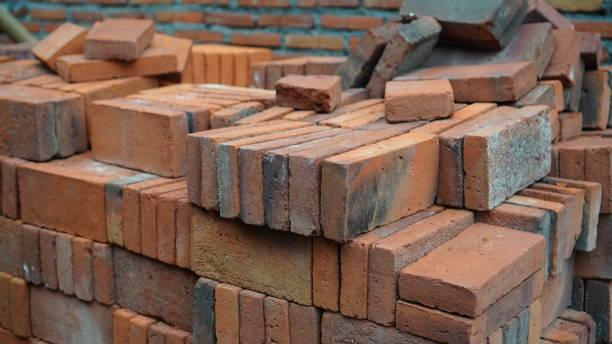Bricks: (333, 200, 445, 321), (400, 223, 544, 316), (321, 132, 436, 241), (191, 206, 315, 305), (288, 129, 406, 233), (369, 207, 470, 324), (265, 129, 381, 229), (16, 151, 140, 242), (394, 269, 546, 343), (238, 127, 355, 222), (218, 124, 335, 217), (201, 120, 313, 211), (186, 117, 295, 206), (462, 106, 550, 210), (436, 105, 521, 205), (107, 243, 197, 335), (420, 20, 558, 77), (91, 98, 188, 178), (474, 201, 551, 285), (72, 75, 160, 147), (56, 34, 192, 80), (397, 60, 538, 104), (366, 17, 441, 97), (402, 0, 532, 46), (331, 17, 409, 88), (18, 80, 91, 154), (6, 82, 77, 154), (103, 168, 166, 248), (124, 173, 183, 256), (505, 193, 566, 273), (541, 175, 600, 251), (35, 283, 112, 341), (0, 86, 57, 163), (519, 188, 575, 262), (140, 178, 189, 260), (121, 90, 212, 133), (322, 311, 441, 343), (531, 177, 586, 239), (31, 22, 90, 72), (85, 18, 154, 59), (410, 103, 495, 136), (274, 74, 342, 113), (154, 189, 188, 267), (308, 233, 340, 315), (573, 213, 611, 281), (542, 248, 572, 333), (139, 86, 226, 115), (0, 276, 36, 343), (583, 134, 611, 216), (161, 81, 240, 109), (540, 30, 582, 82), (577, 67, 610, 132), (556, 137, 602, 181), (193, 83, 276, 107), (303, 98, 382, 123), (1, 153, 29, 220), (195, 271, 220, 343), (316, 101, 387, 126), (213, 283, 242, 343), (585, 277, 611, 343), (522, 0, 575, 32), (249, 57, 303, 88), (69, 233, 93, 302), (211, 100, 267, 129), (237, 288, 266, 343), (19, 223, 45, 283), (0, 214, 24, 276), (0, 58, 56, 84), (174, 193, 193, 269), (559, 309, 597, 343), (290, 301, 320, 343), (94, 240, 113, 306), (266, 294, 291, 343), (54, 230, 72, 297), (208, 43, 236, 86), (576, 28, 604, 71), (37, 229, 57, 289), (234, 104, 293, 124), (338, 107, 386, 131), (518, 86, 557, 114), (194, 44, 220, 85), (550, 317, 588, 343), (226, 43, 248, 87), (539, 78, 566, 112), (302, 58, 348, 77), (111, 310, 134, 343), (130, 316, 157, 343), (528, 299, 544, 343), (562, 110, 583, 142), (61, 78, 112, 91), (381, 119, 428, 133), (10, 70, 55, 84), (147, 322, 177, 343), (542, 325, 577, 343), (242, 45, 271, 65), (192, 46, 207, 84), (283, 59, 313, 77), (30, 73, 68, 87), (547, 110, 562, 145), (571, 276, 584, 312), (43, 77, 85, 88), (283, 106, 316, 120), (214, 91, 251, 103), (179, 54, 193, 85), (362, 116, 393, 130), (519, 307, 531, 343), (167, 326, 192, 343), (502, 319, 519, 342), (267, 64, 282, 90), (488, 326, 505, 343), (538, 337, 564, 343), (189, 335, 199, 343)
